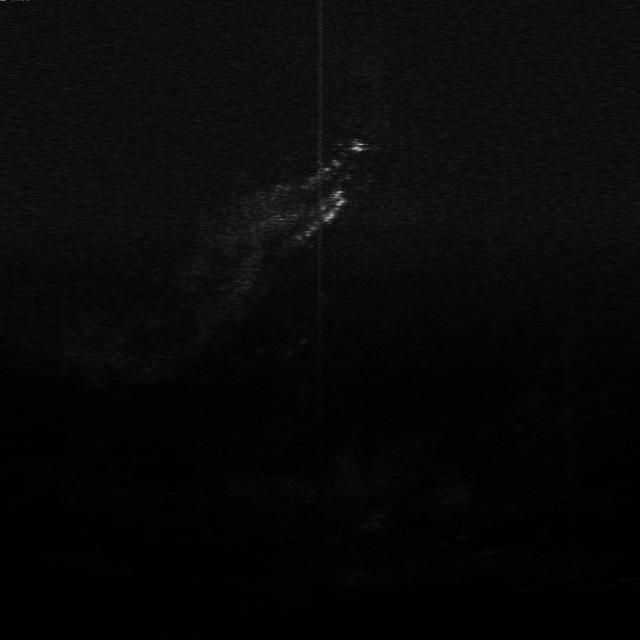rov: (348, 137, 371, 155)
